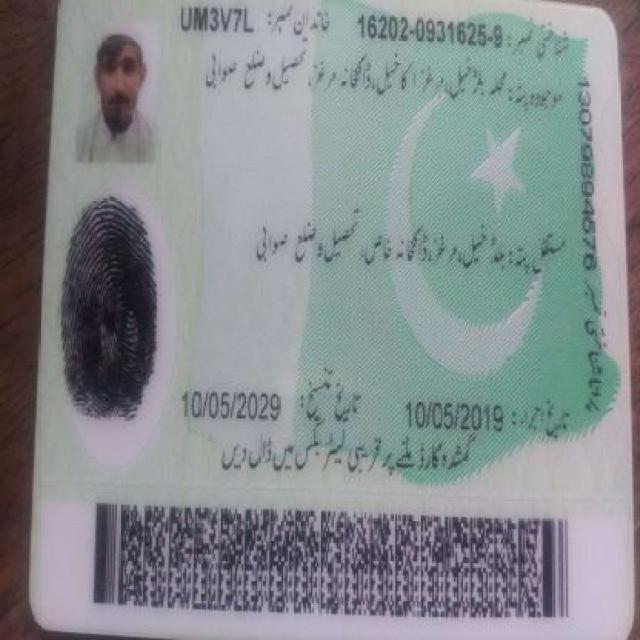Back: (40, 6, 615, 619)
